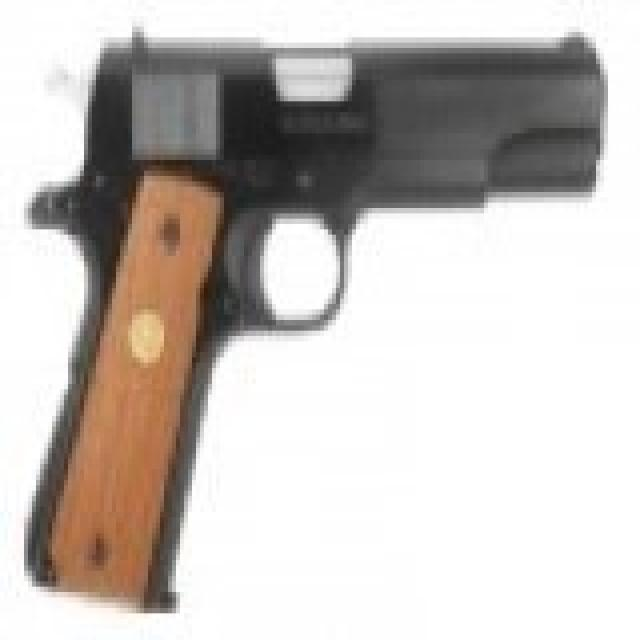Gun: (32, 17, 611, 615)
